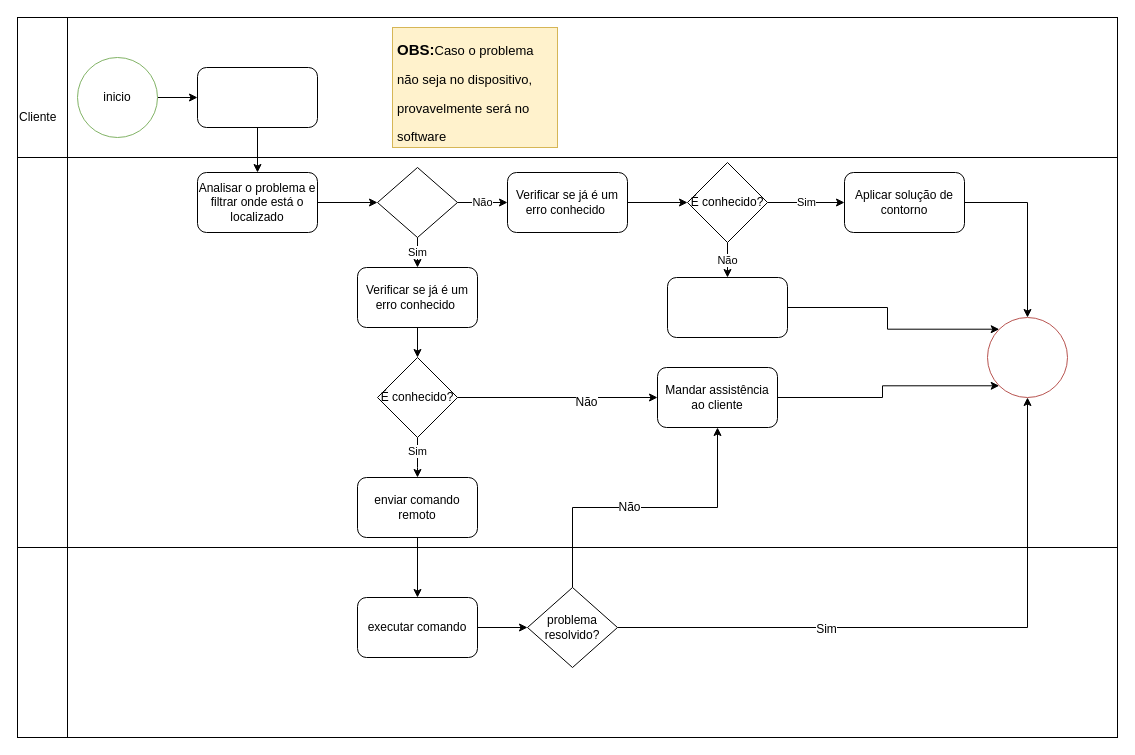
This 1135x755 diagram has some shape labels left out. The box of each missing label's shape, as (x1, y1, x2, y2) in pixels:
Entrar em contato através do site: (196, 66, 318, 128)
Final: (986, 316, 1068, 398)
Produto: (16, 546, 68, 738)
Service Desk: (16, 156, 68, 548)
Tentar resolver o problema: (666, 276, 788, 338)
é no dispositivo?: (376, 166, 458, 238)
